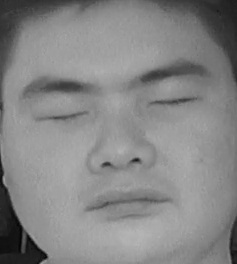blink: (35, 97, 89, 132), (148, 82, 198, 118)
mouth: (79, 176, 174, 224)
